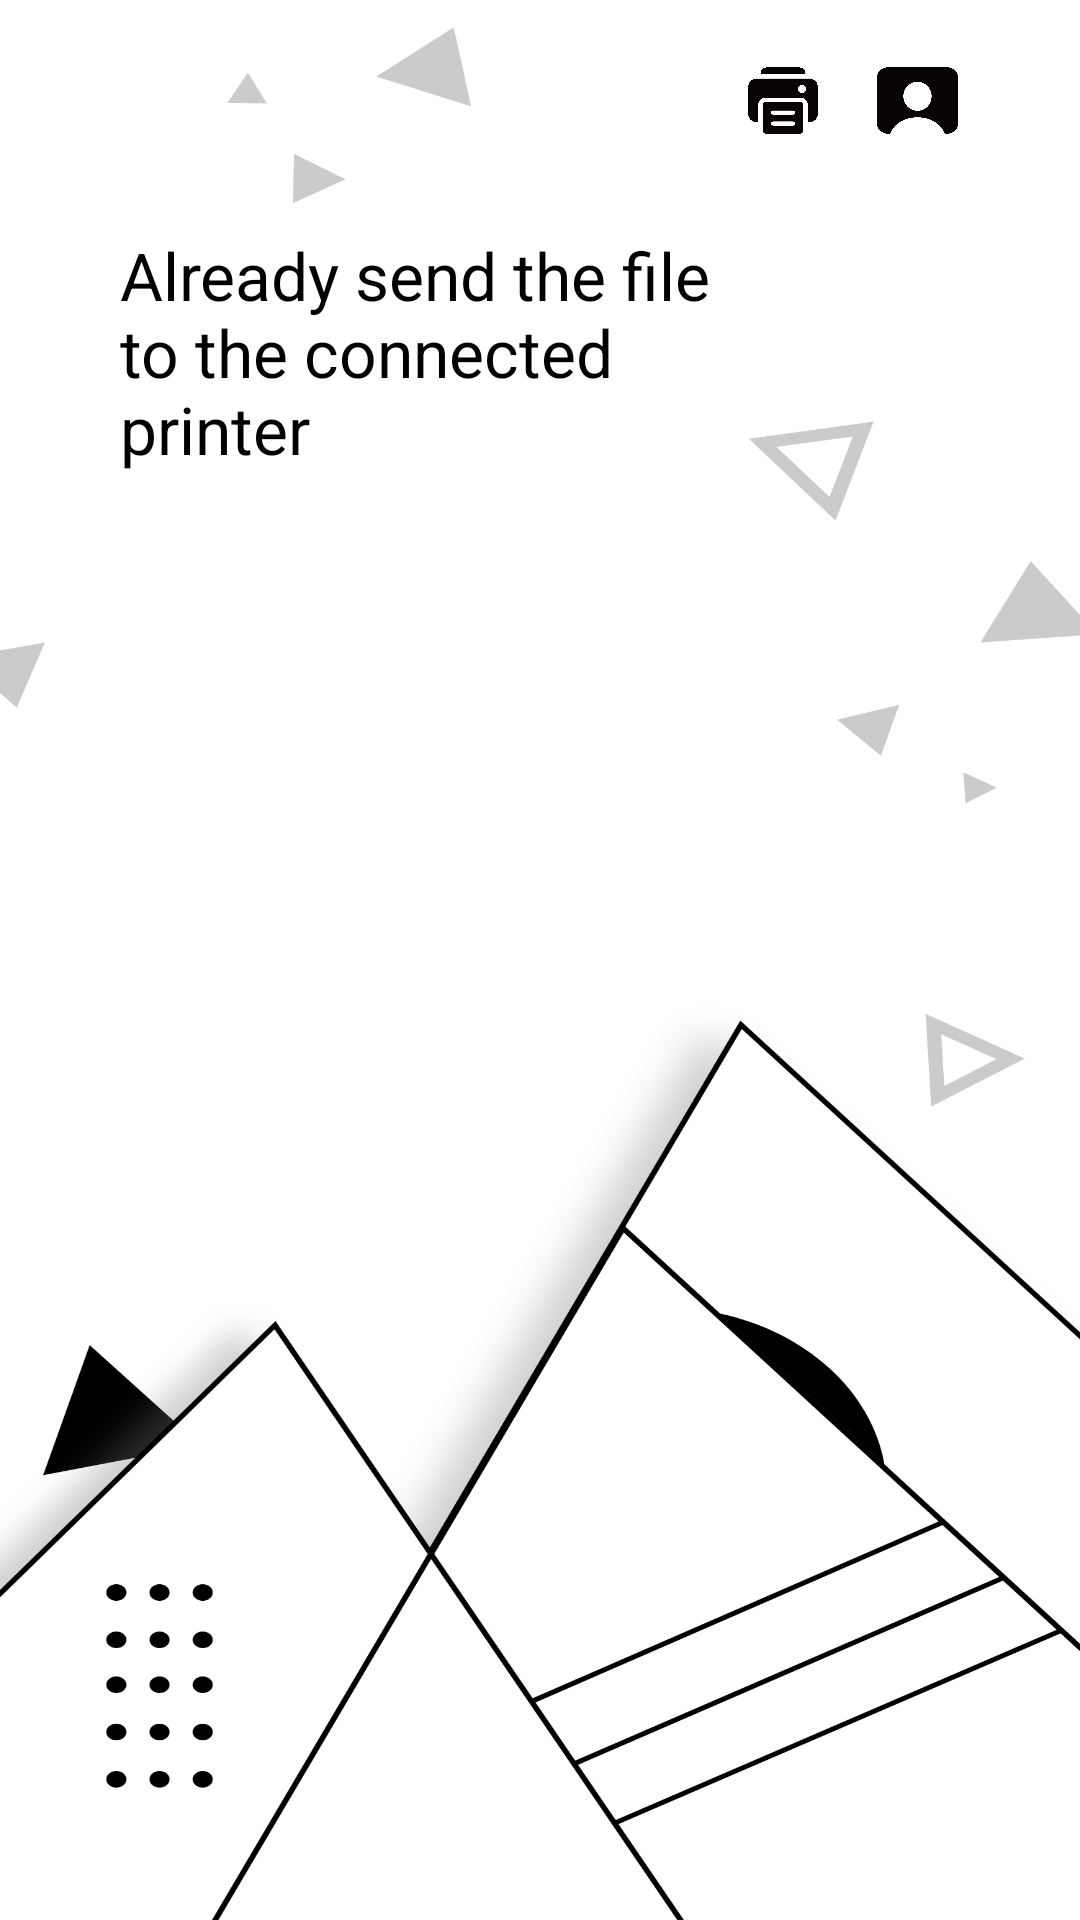

Icons on this 1080px×1920px Android screen, each with the point to tap as (x,y):
portfilo: (917,100)
